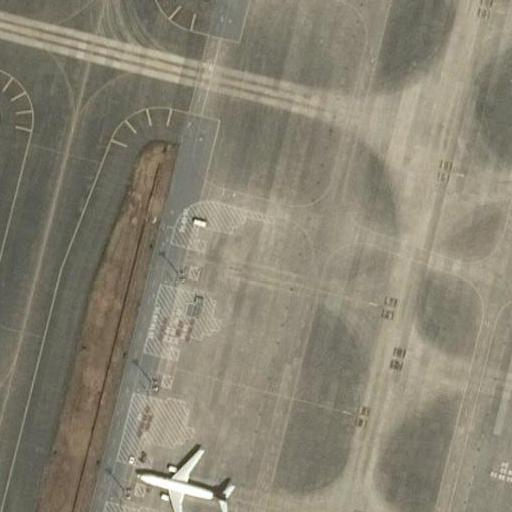Aircraft: (133, 440, 233, 512)
